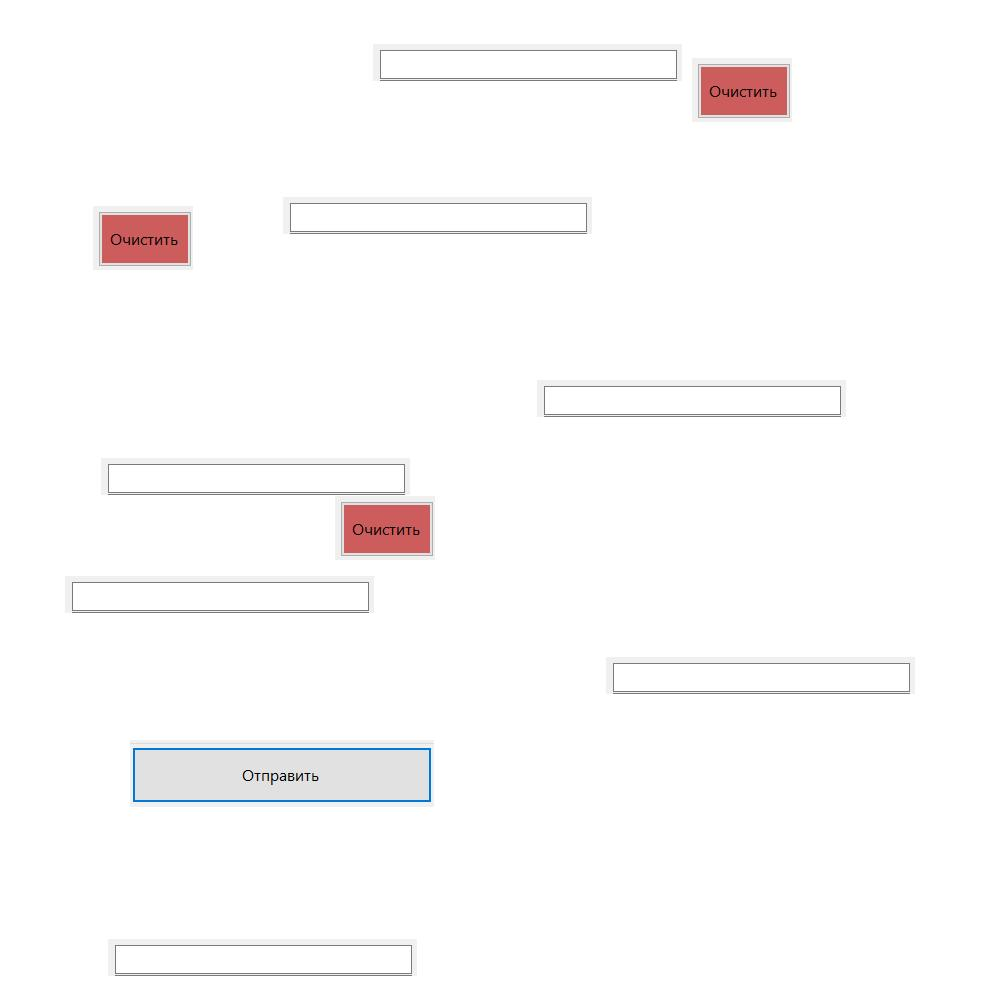Button: (130, 740, 434, 807), (93, 206, 193, 270), (692, 58, 792, 122), (335, 496, 435, 560)
EditText-: (65, 576, 374, 613), (537, 380, 846, 417), (606, 657, 915, 694), (283, 197, 592, 234), (373, 44, 682, 81), (108, 939, 417, 976), (101, 458, 410, 495)
